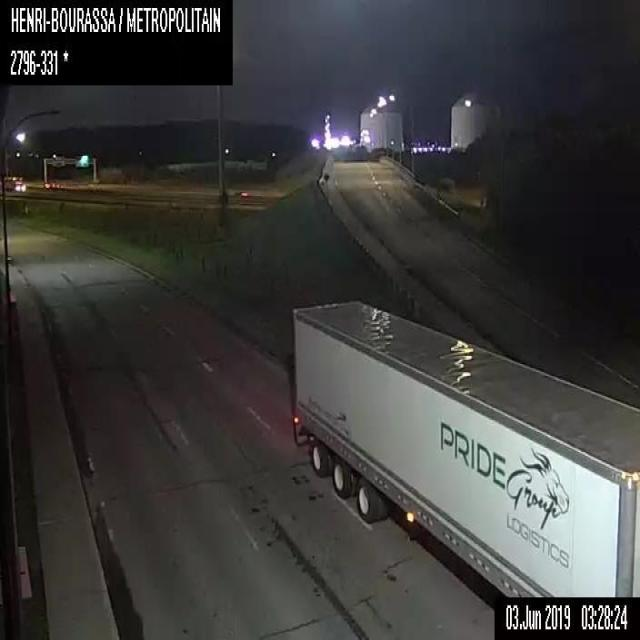vehicle: (291, 300, 639, 593), (0, 174, 25, 192)
